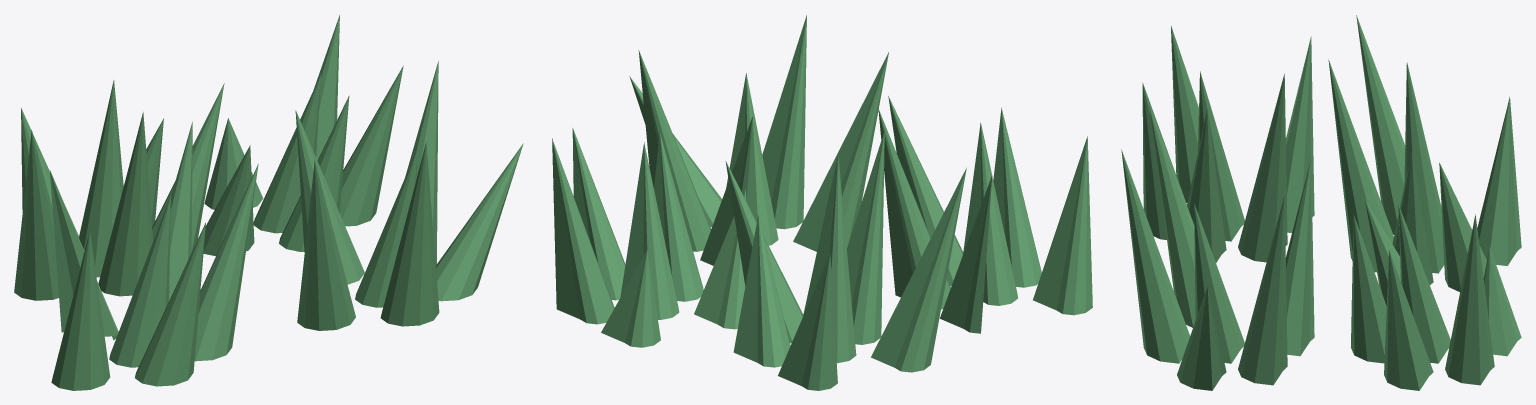
Rendered from grasspatchbig.fbx.
The picture shows the model from 3 angles, left to right: view 1: azimuth 30°, elevation 25°; view 2: azimuth 150°, elevation 25°; view 3: azimuth 270°, elevation 25°; orthographic projection. The views are drawn at different scales.
Visible parts, largest first — view 1: grasspatchbig; view 2: grasspatchbig; view 3: grasspatchbig.
Part boxes in pixels (left/top/right/bottom): grasspatchbig: left=14, top=15, right=523, bottom=390; grasspatchbig: left=552, top=15, right=1092, bottom=390; grasspatchbig: left=1121, top=15, right=1521, bottom=390.
Bounding box in the file's own units: 1.53 × 0.6085 × 1.11.
